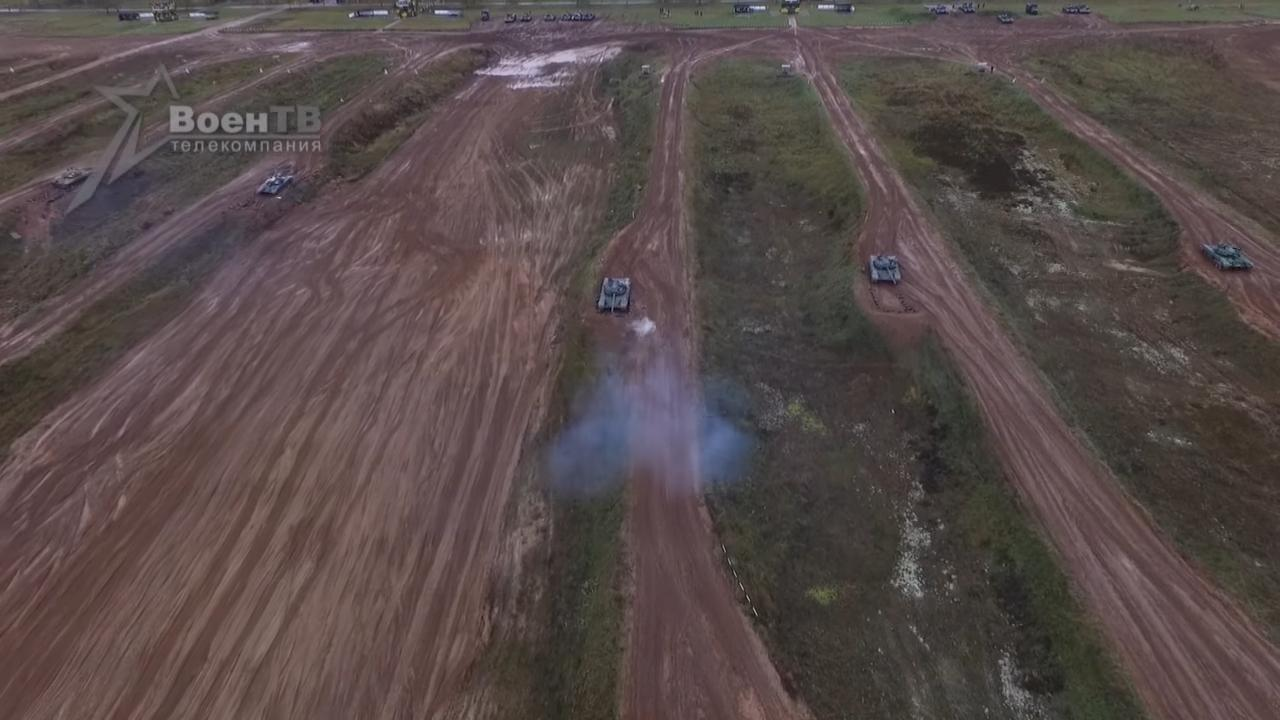tank: (1201, 244, 1254, 272), (599, 278, 630, 313), (870, 255, 902, 285), (54, 168, 89, 192), (257, 174, 293, 194)
